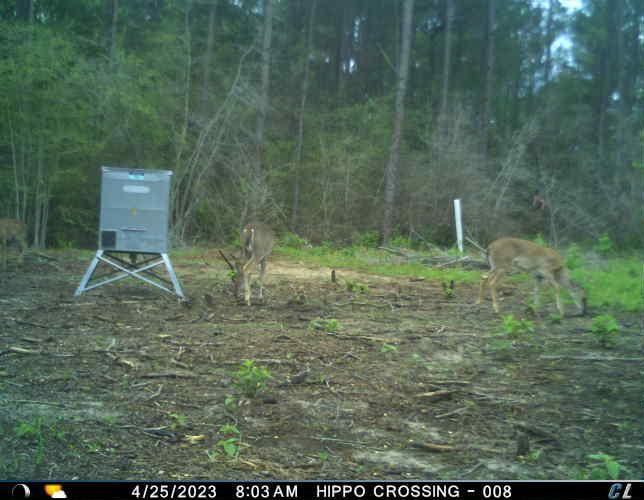Deer: (474, 236, 595, 318), (221, 216, 279, 308), (0, 214, 31, 278)
